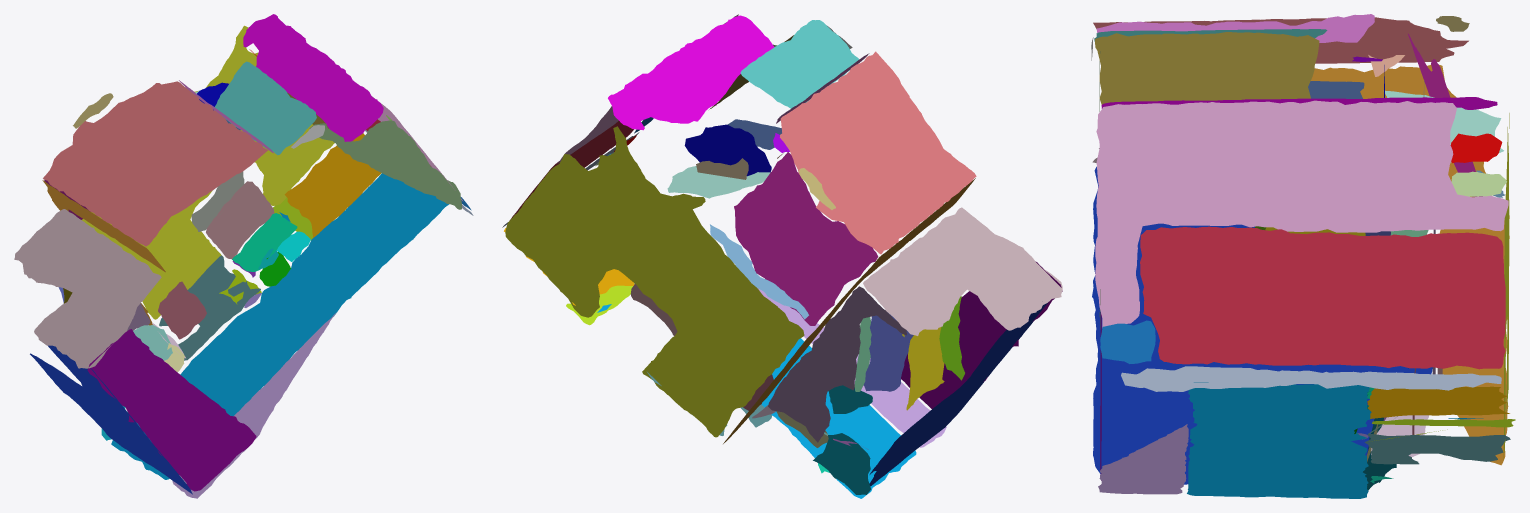
The model's file is office1_pigs.glb.
3 views of the same model, side by side, from view 1: azimuth 30°, elevation 25°; view 2: azimuth 150°, elevation 25°; view 3: azimuth 270°, elevation 25° (orthographic). The views are drawn at different scales.
Visible parts, largest first — view 1: world; view 2: world; view 3: world.
Part boxes in pixels (x1=…): world: x1=14, y1=14, x2=473, y2=498; world: x1=502, y1=14, x2=1062, y2=498; world: x1=1091, y1=14, x2=1515, y2=498.
Size of the model in its own units: 4.86 by 4.16 by 2.83.
